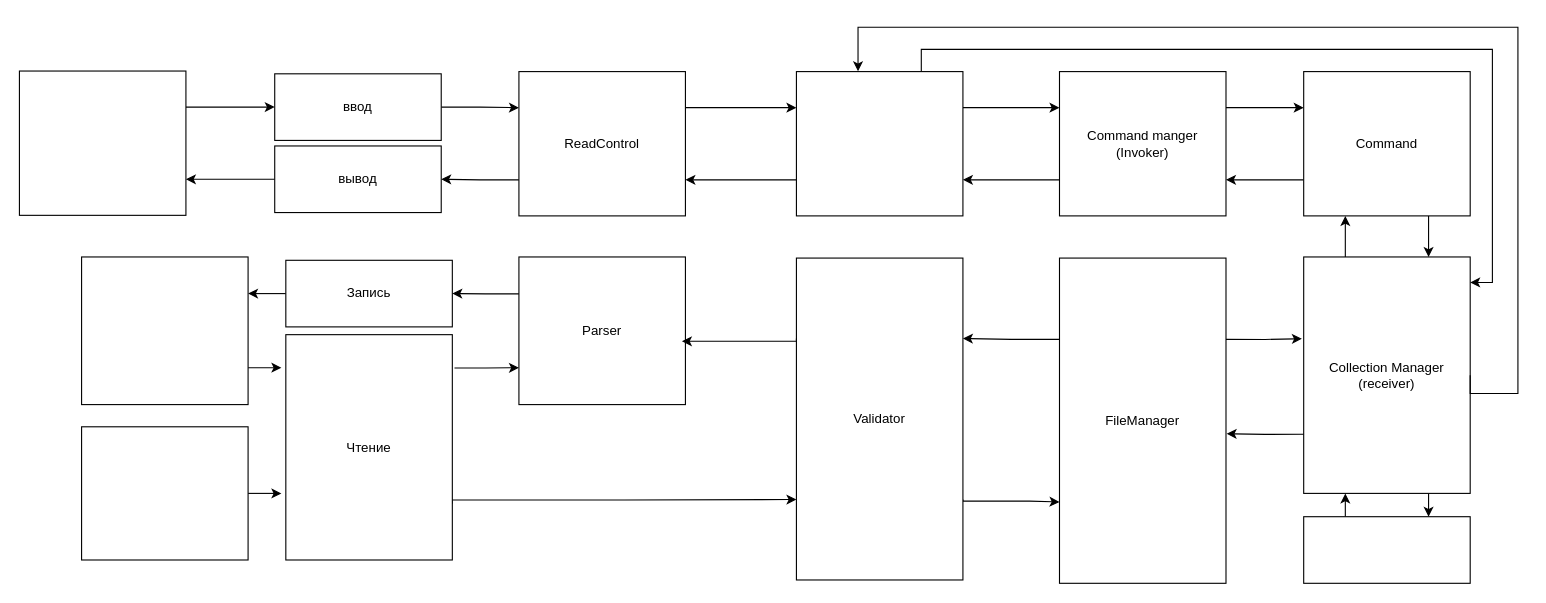
This 1546x603 diagram has some shape labels left out. The shapes that lost their labels are listed below. From the top down, each one's box as (x1, y1, x2, y2) in pixels, then its label:
(18, 70, 186, 215): Консоль
(795, 70, 963, 216): Reader
(80, 256, 248, 405): file
(80, 426, 248, 560): script
(1303, 516, 1470, 583): Коллекция
